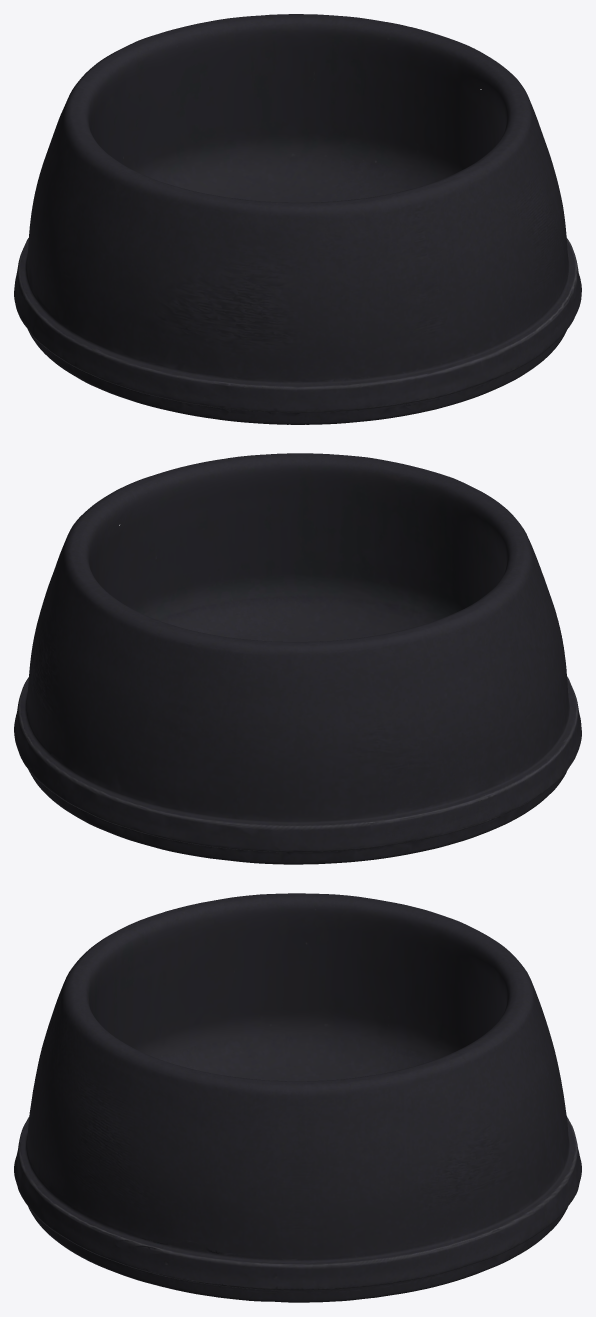
Rendered from PORTACOMIDAS-MASCOTAS.glb.
3 views of the same model, one above another, from view 1: azimuth 30°, elevation 25°; view 2: azimuth 150°, elevation 25°; view 3: azimuth 270°, elevation 25° (orthographic).
Parts seen in each view (by area): view 1: tripo_node_c84cdfb2-ab74-4add-b108-de22ea4a3309; view 2: tripo_node_c84cdfb2-ab74-4add-b108-de22ea4a3309; view 3: tripo_node_c84cdfb2-ab74-4add-b108-de22ea4a3309.
Boxes of the visible parts, x1=… form: tripo_node_c84cdfb2-ab74-4add-b108-de22ea4a3309: x1=14, y1=14, x2=581, y2=424; tripo_node_c84cdfb2-ab74-4add-b108-de22ea4a3309: x1=14, y1=453, x2=581, y2=864; tripo_node_c84cdfb2-ab74-4add-b108-de22ea4a3309: x1=14, y1=893, x2=581, y2=1302.
Size of the model in its own units: 0.9777 by 0.3781 by 0.9792.
Materials: 1 (1 with a texture image).
